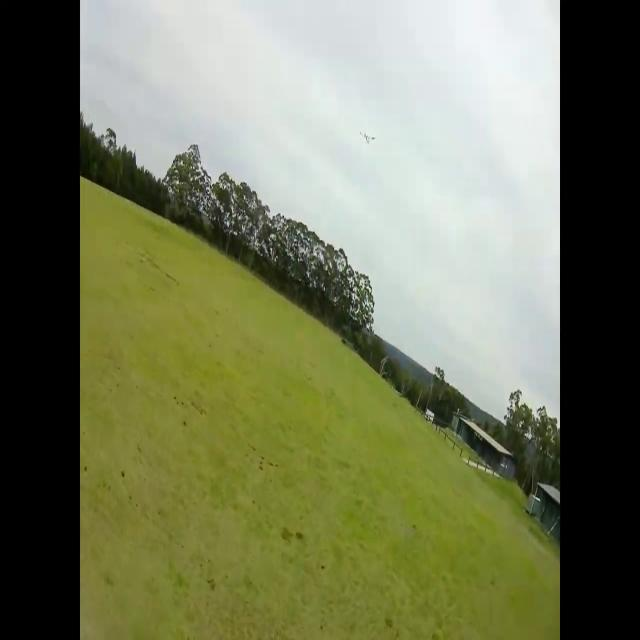iha: (361, 123, 377, 140)
